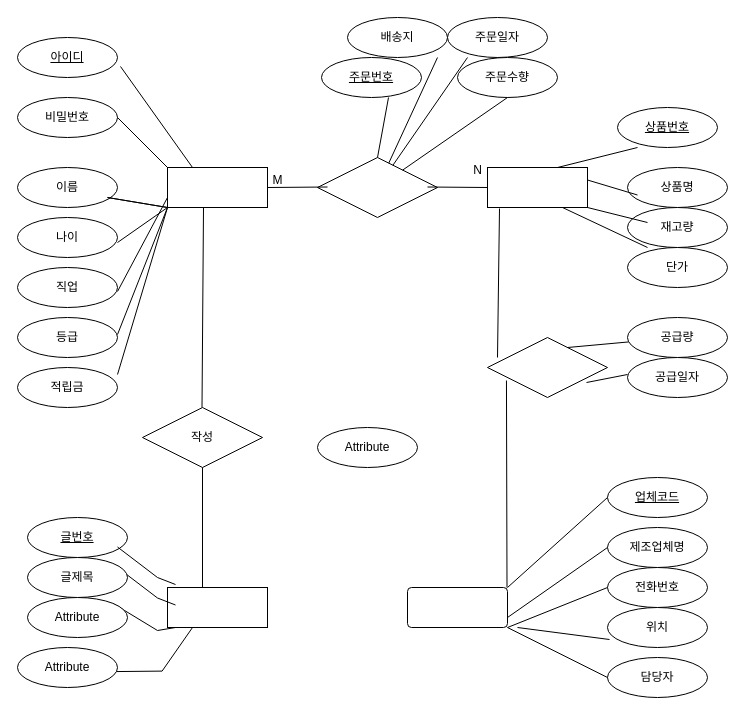
Some shapes in this 745 by 715 pixel diagram are drawn without their labels. Here are the shapes that lost their labels. From the top down, the centre of each, then its label:
the point at 217,187: 회원
the point at 377,187: 주문
the point at 537,187: 상품
the point at 547,367: 공급
the point at 217,607: 게시글
the point at 457,607: 제조업체
